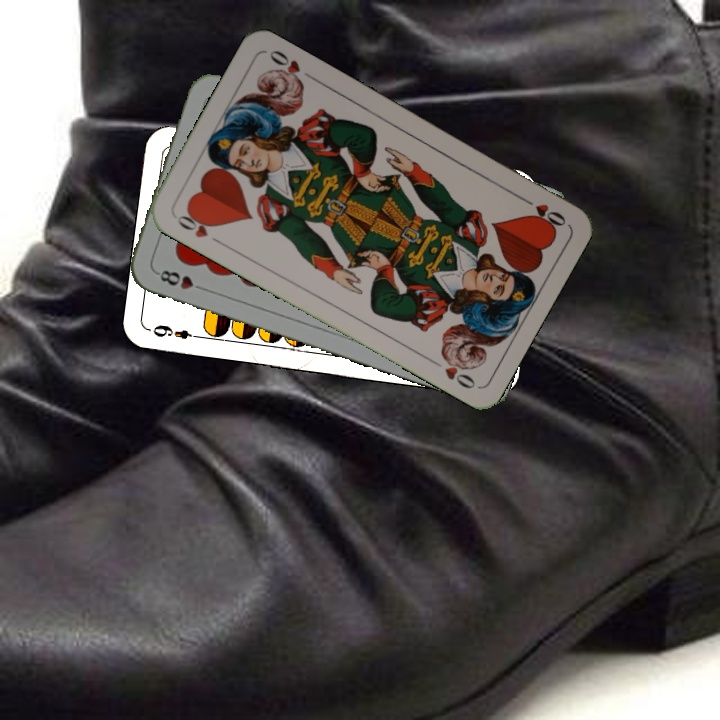E9: (149, 321, 205, 342)
H8: (152, 266, 209, 294)
HO: (171, 206, 225, 247), (515, 192, 569, 231)
